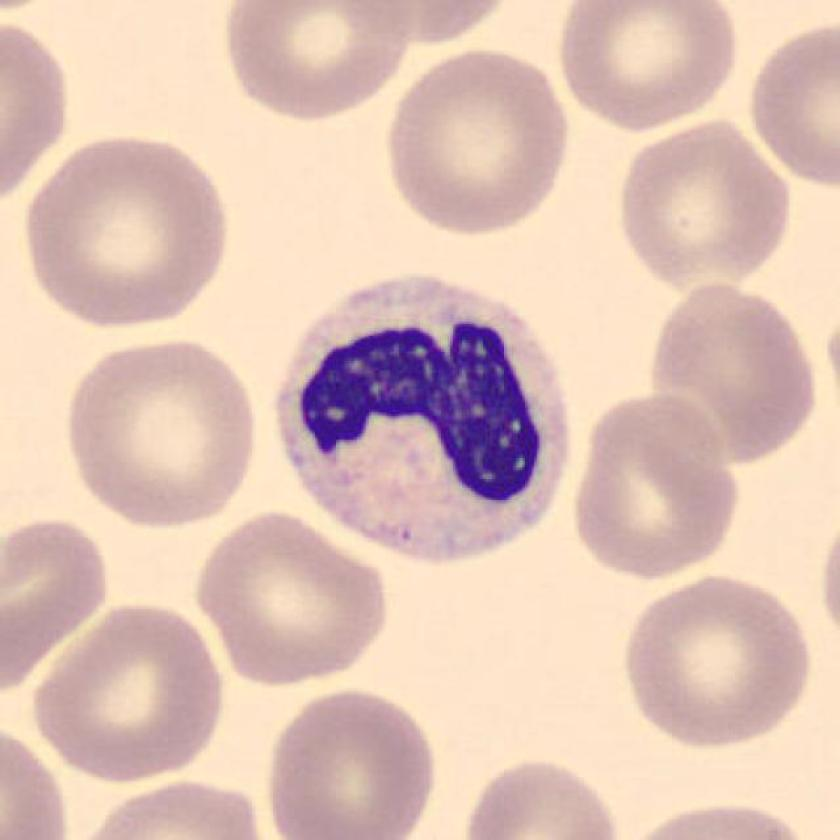neutrophil: (273, 282, 565, 563)
